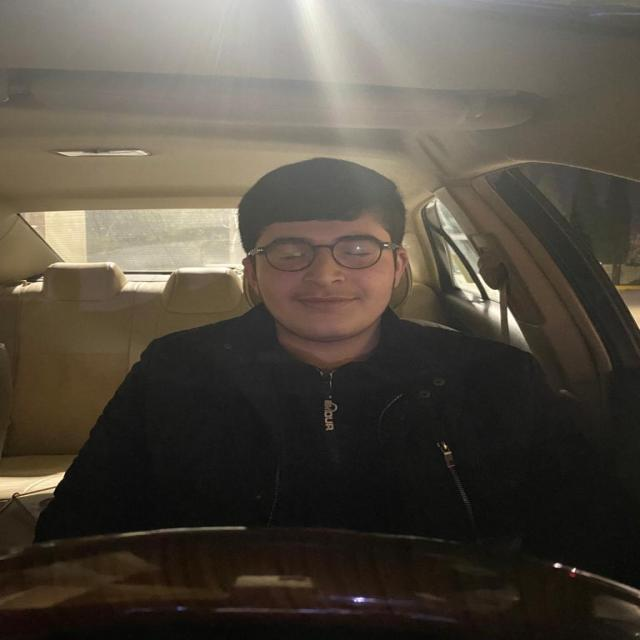drowsy: (229, 152, 415, 354)
